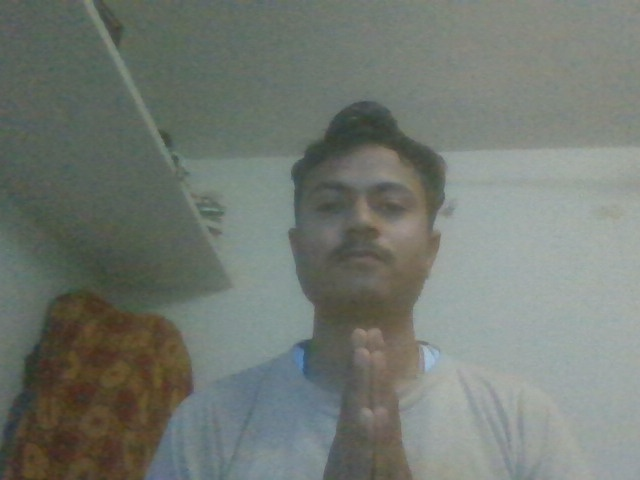Namaste: (315, 318, 433, 480)
